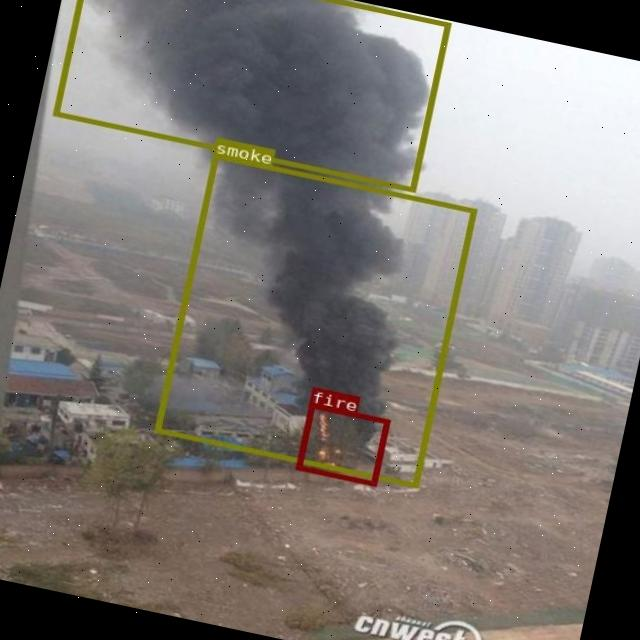fire: (296, 402, 389, 485)
smoke: (153, 152, 474, 486), (52, 0, 450, 190)
